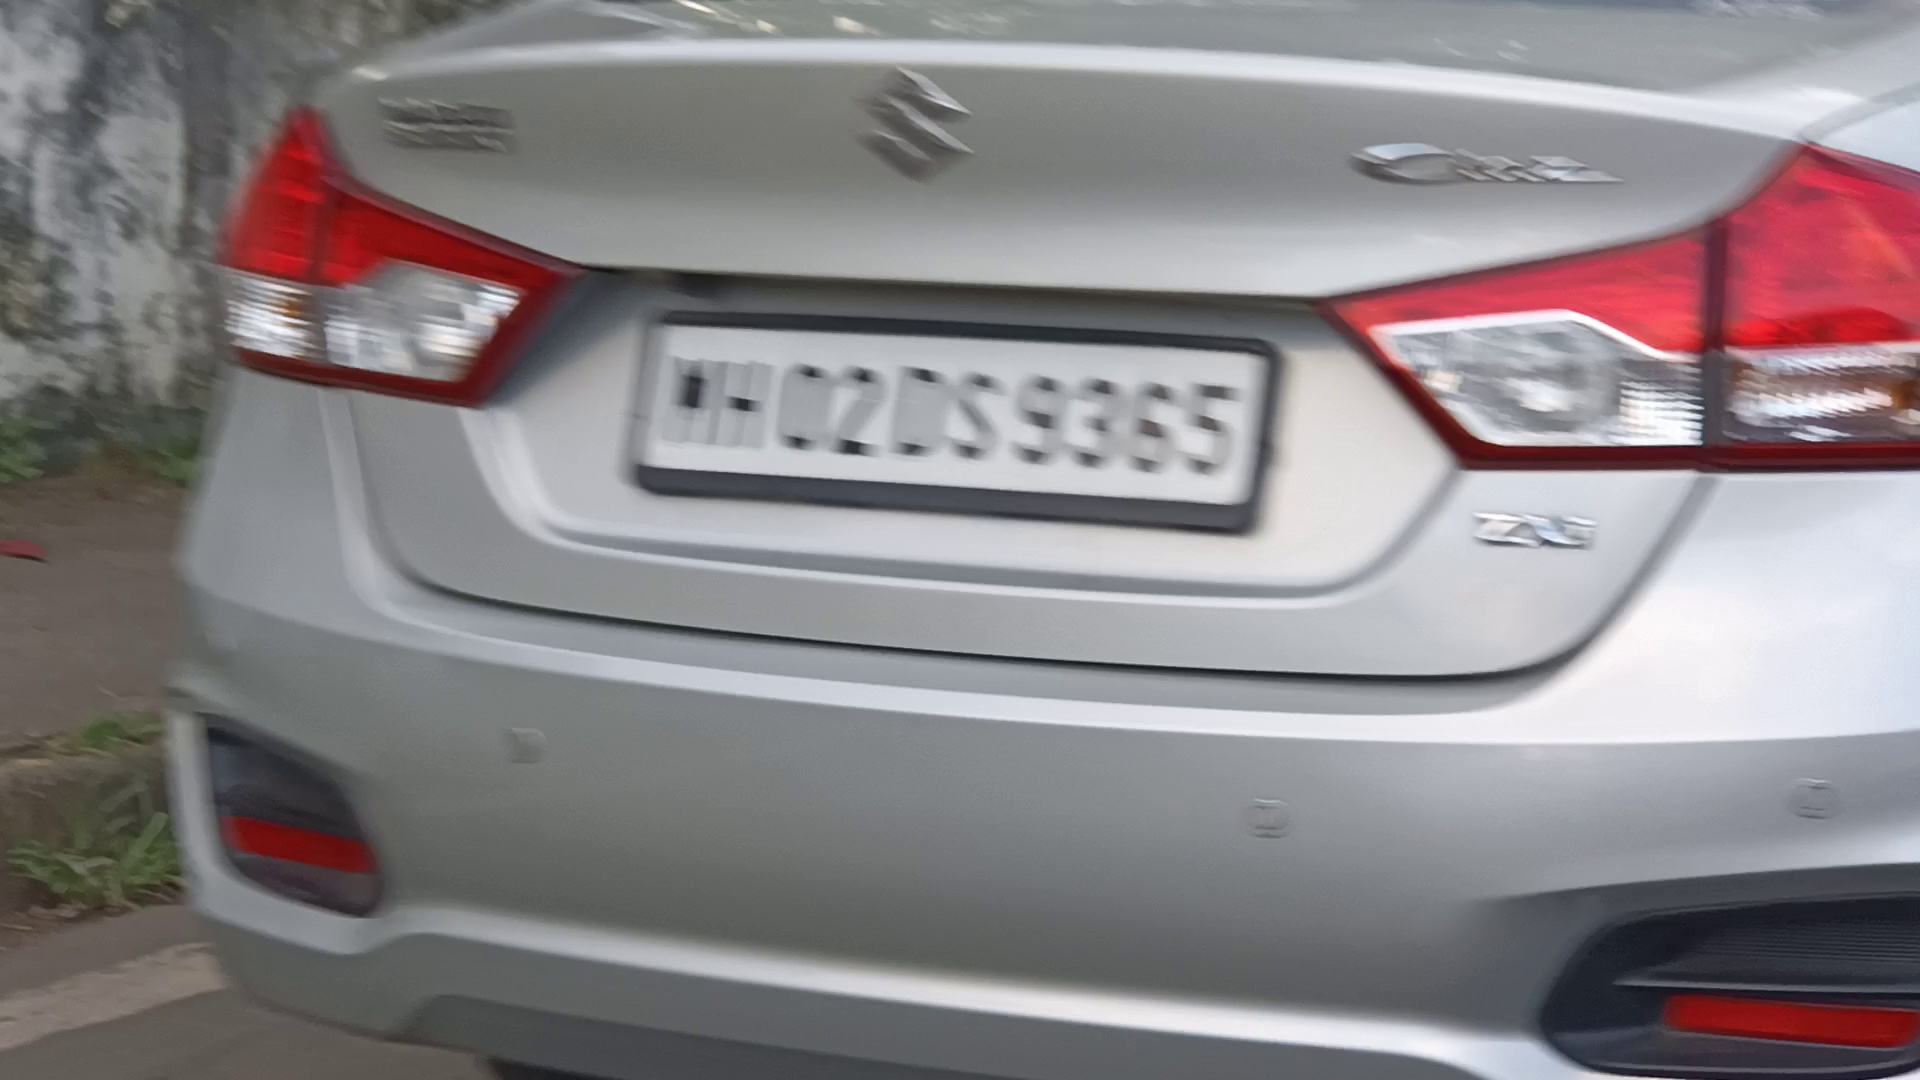MH02DS9365: (637, 317, 1263, 520)
